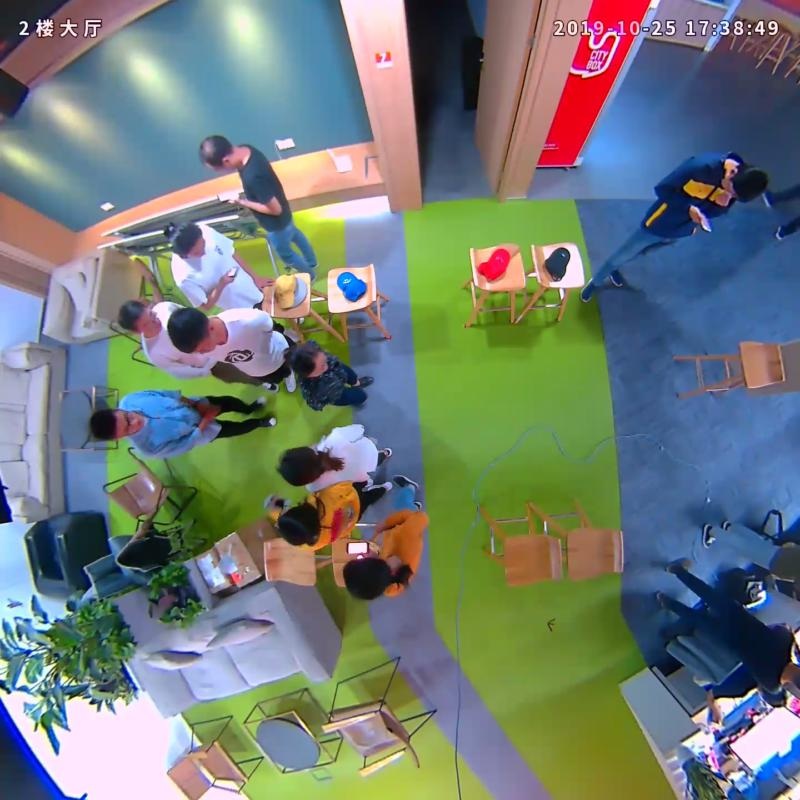head: (166, 307, 216, 355), (343, 555, 391, 601), (275, 447, 321, 488), (90, 408, 146, 441), (277, 503, 318, 547), (721, 164, 768, 202), (118, 300, 162, 335), (289, 342, 328, 380), (168, 221, 205, 260), (198, 134, 236, 171)
